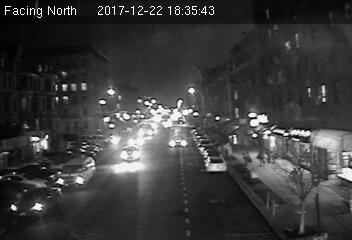car: (8, 185, 63, 217), (120, 146, 141, 161), (205, 157, 226, 172), (168, 136, 188, 148)
truck: (56, 156, 96, 189)
